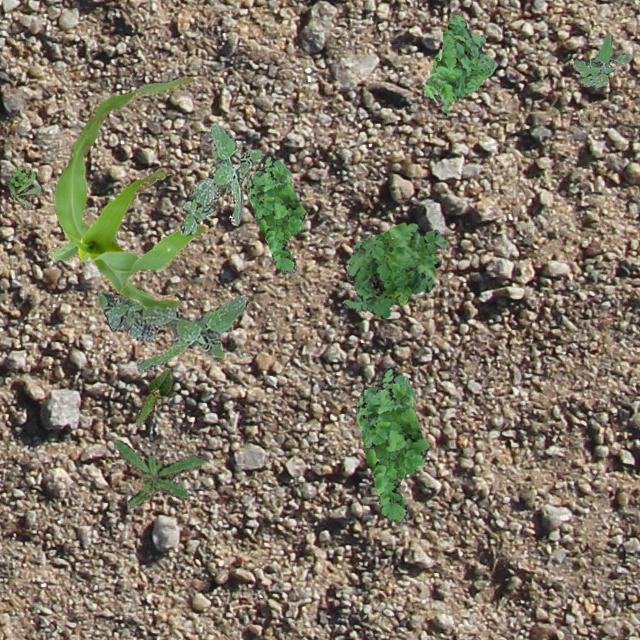crop: (46, 75, 210, 308), (134, 368, 170, 426)
weed: (97, 292, 245, 371), (356, 366, 428, 522), (342, 220, 446, 318), (178, 123, 262, 235), (422, 14, 494, 116), (246, 154, 306, 272), (112, 439, 204, 506), (572, 32, 630, 86), (6, 164, 40, 206)
